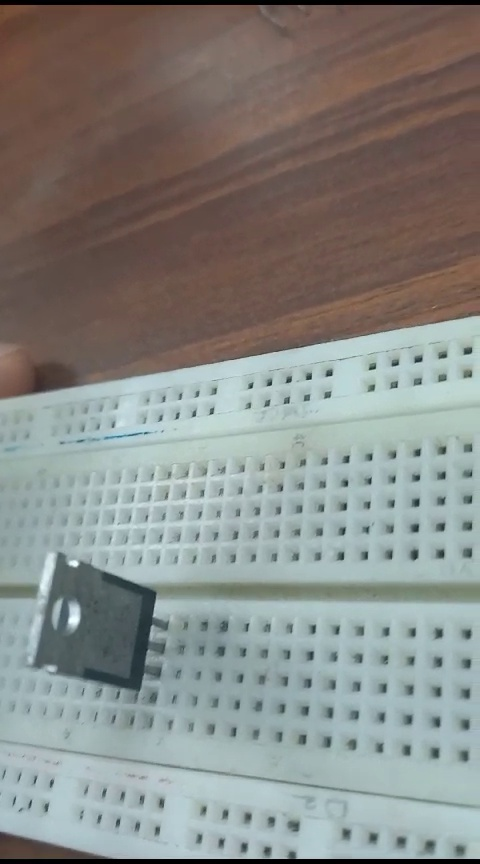voltage regulator: (34, 541, 174, 713)
